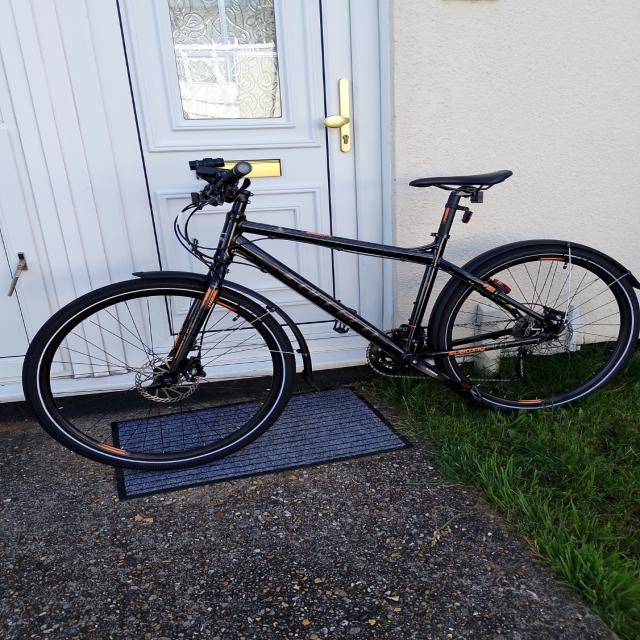bicycle: (20, 156, 639, 470)
